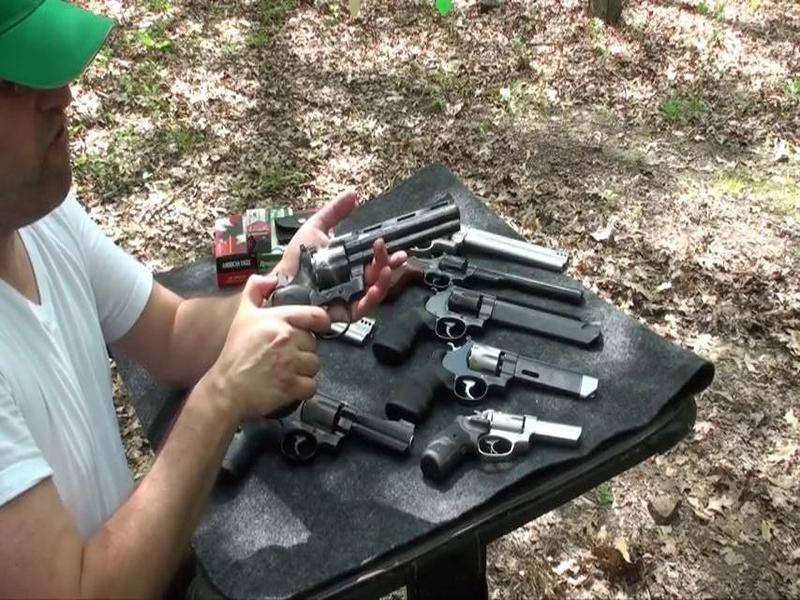Revolver: (269, 169, 469, 359)
